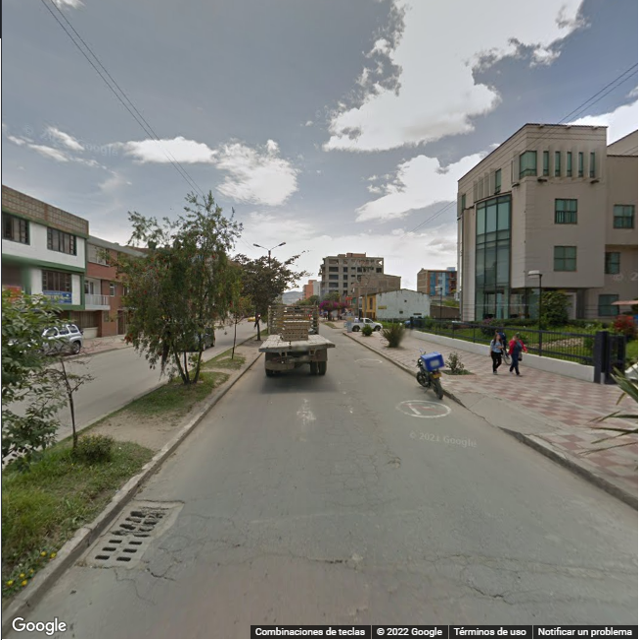D00: (432, 562, 492, 597)
D10: (255, 546, 351, 566), (501, 595, 631, 608), (181, 516, 244, 531), (145, 557, 176, 585)
